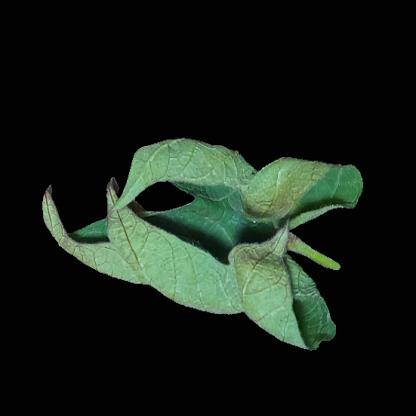curl_stage2: (210, 170, 306, 220), (226, 243, 296, 302), (145, 146, 197, 186)
